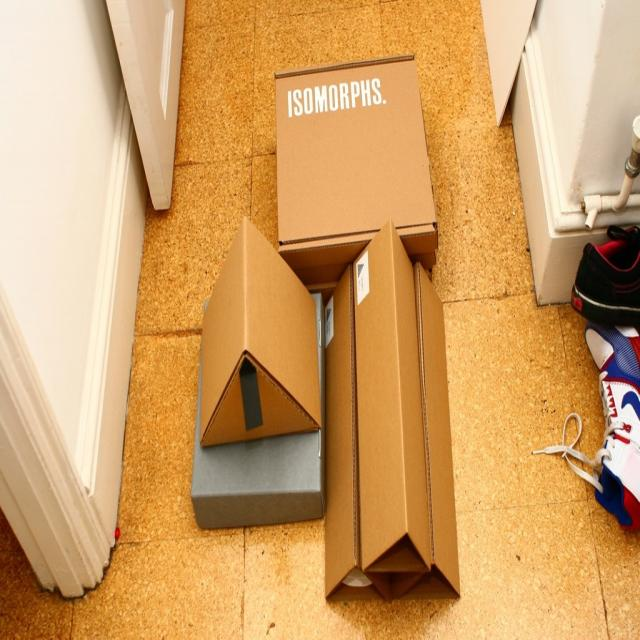Box: (322, 218, 458, 603), (274, 51, 438, 270), (190, 291, 324, 528), (202, 216, 322, 447), (305, 267, 433, 308), (295, 252, 437, 287)
